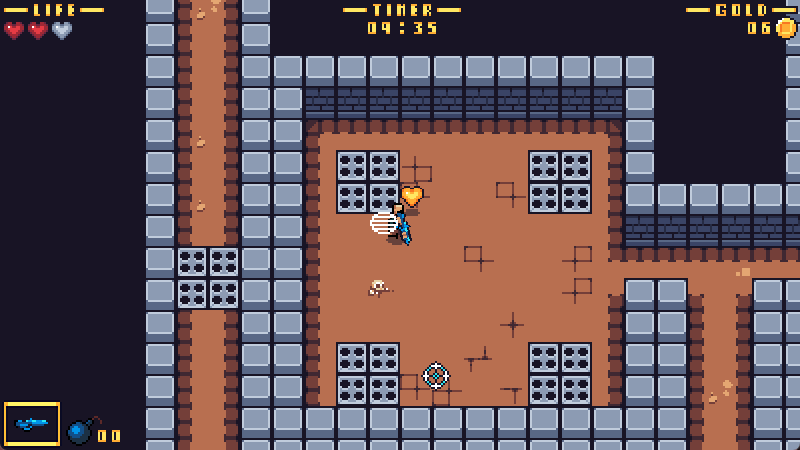aim: (420, 361, 453, 390)
health_reward: (397, 185, 425, 210)
player: (386, 202, 413, 242)
trap_off: (177, 247, 238, 307), (337, 345, 398, 405), (337, 152, 398, 212), (529, 151, 590, 211), (529, 345, 590, 405)
